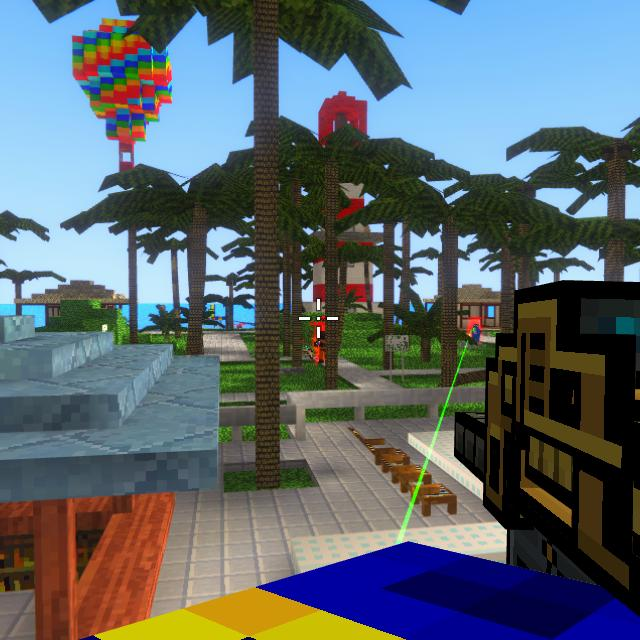Enemy: (314, 332, 326, 365), (468, 323, 481, 342), (471, 326, 484, 344)
